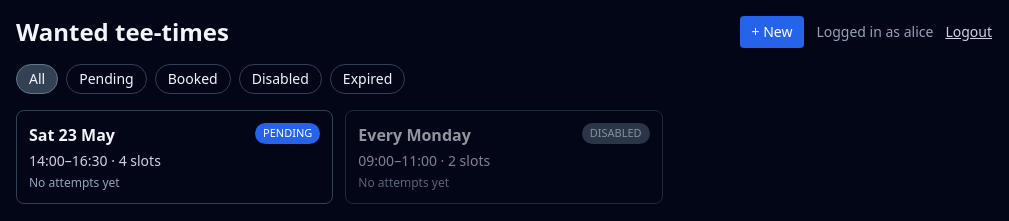
Scenario: WantedListPage › lists cards and filters by status
Expected: the text "Sat 23 May" is shown, [29,123,115,147]
Expected: the text "Every Monday" is shown, [358,123,471,147]
Click the button "Disabled": {"x": 280, "y": 79} [239,64,322,94]
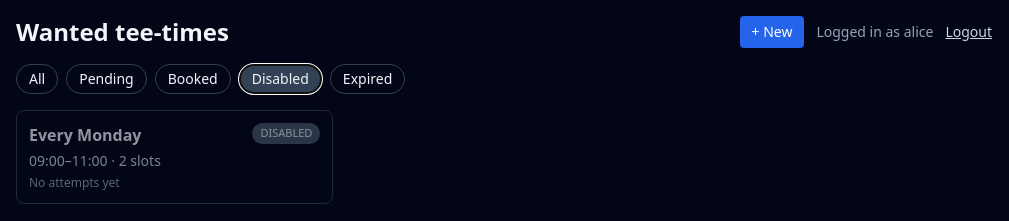
Expected: the text "Every Monday" is shown, [29,123,142,147]
Result: the link "Sat 23 May" is gone
